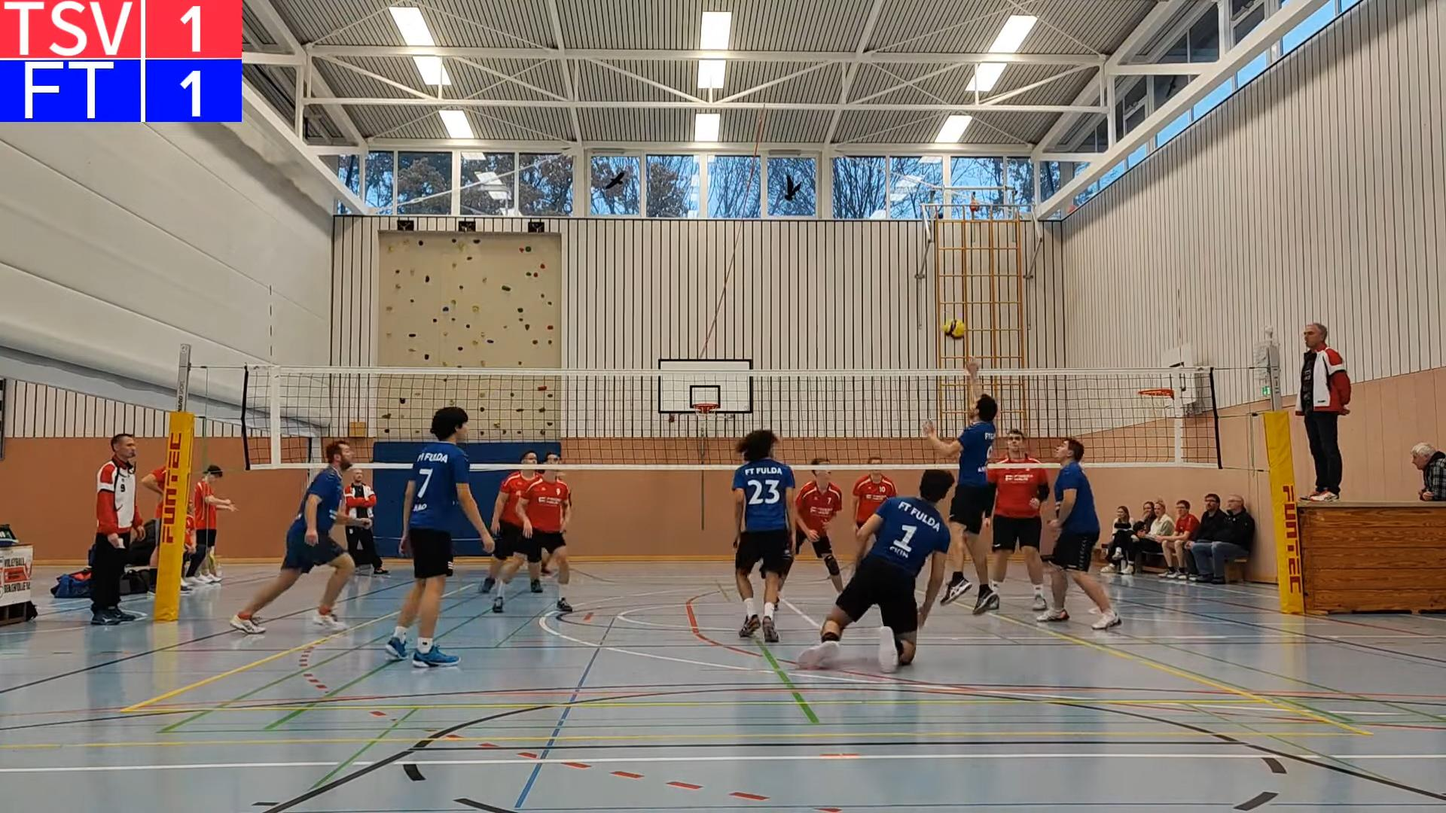attacco: (921, 356, 1002, 616)
